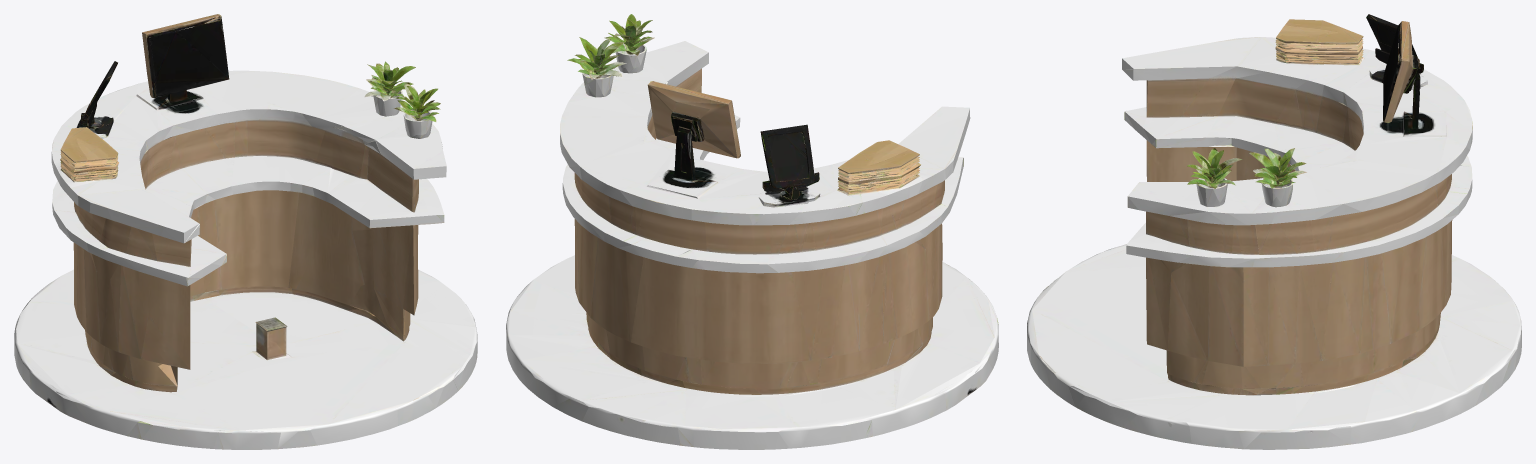
The model's file is reception_desk.glb.
3 renders of one model, left to right at view 1: azimuth 30°, elevation 25°; view 2: azimuth 150°, elevation 25°; view 3: azimuth 270°, elevation 25°, orthographic. The views are drawn at different scales.
Size of the model in its own units: 1.9 by 1.28 by 1.9.
Materials: 1 (1 with a texture image).
